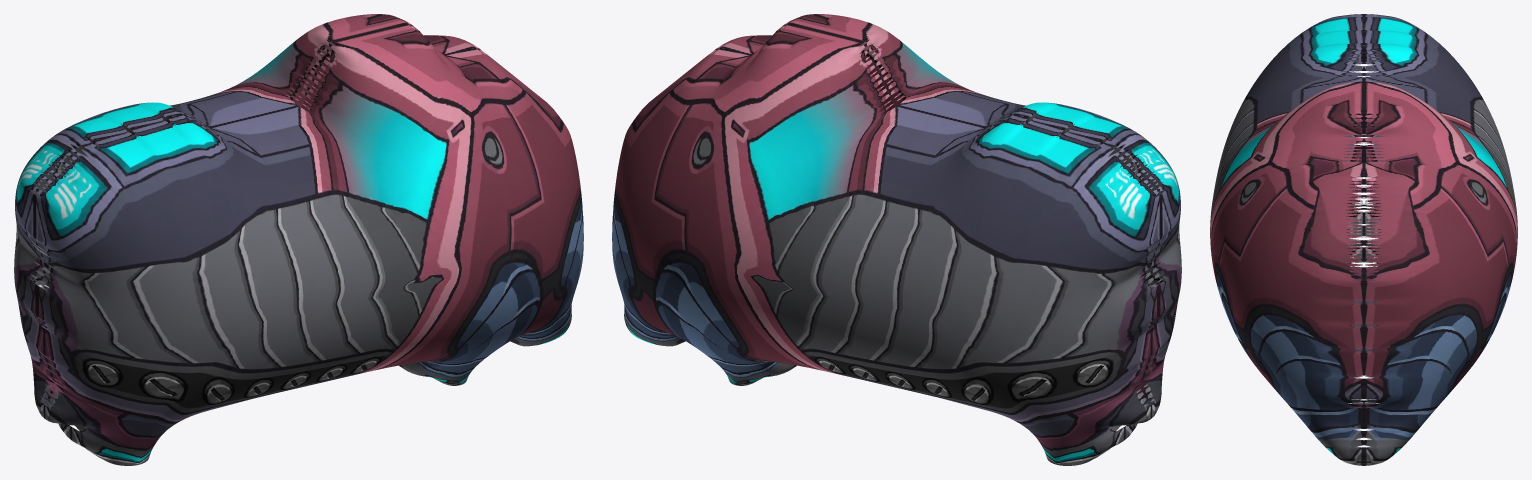
The model's file is hooded_conveyor.glb.
The picture shows the model from 3 angles, left to right: view 1: azimuth 30°, elevation 25°; view 2: azimuth 150°, elevation 25°; view 3: azimuth 270°, elevation 25°; orthographic projection. The views are drawn at different scales.
Parts seen in each view (by area): view 1: hooded_conveyor; view 2: hooded_conveyor; view 3: hooded_conveyor.
Boxes of the visible parts, x1,y1,x2,y2 form: hooded_conveyor: [14, 14, 583, 465]; hooded_conveyor: [612, 14, 1181, 465]; hooded_conveyor: [1210, 14, 1517, 465].
Size of the model in its own units: 0.989 by 0.6171 by 0.5834.
Materials: 1 (1 with a texture image).
